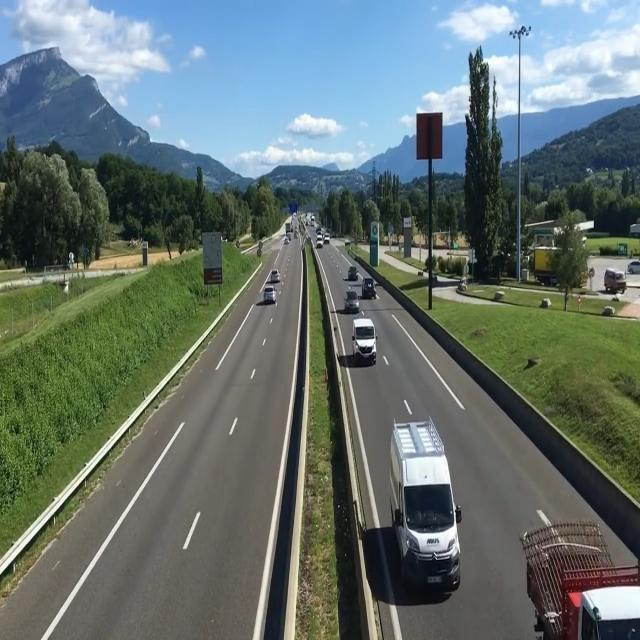Car: (362, 277, 377, 299), (345, 290, 359, 312), (263, 284, 276, 305), (270, 269, 280, 283)
Truck: (389, 420, 464, 592)
Van: (351, 317, 378, 361)
